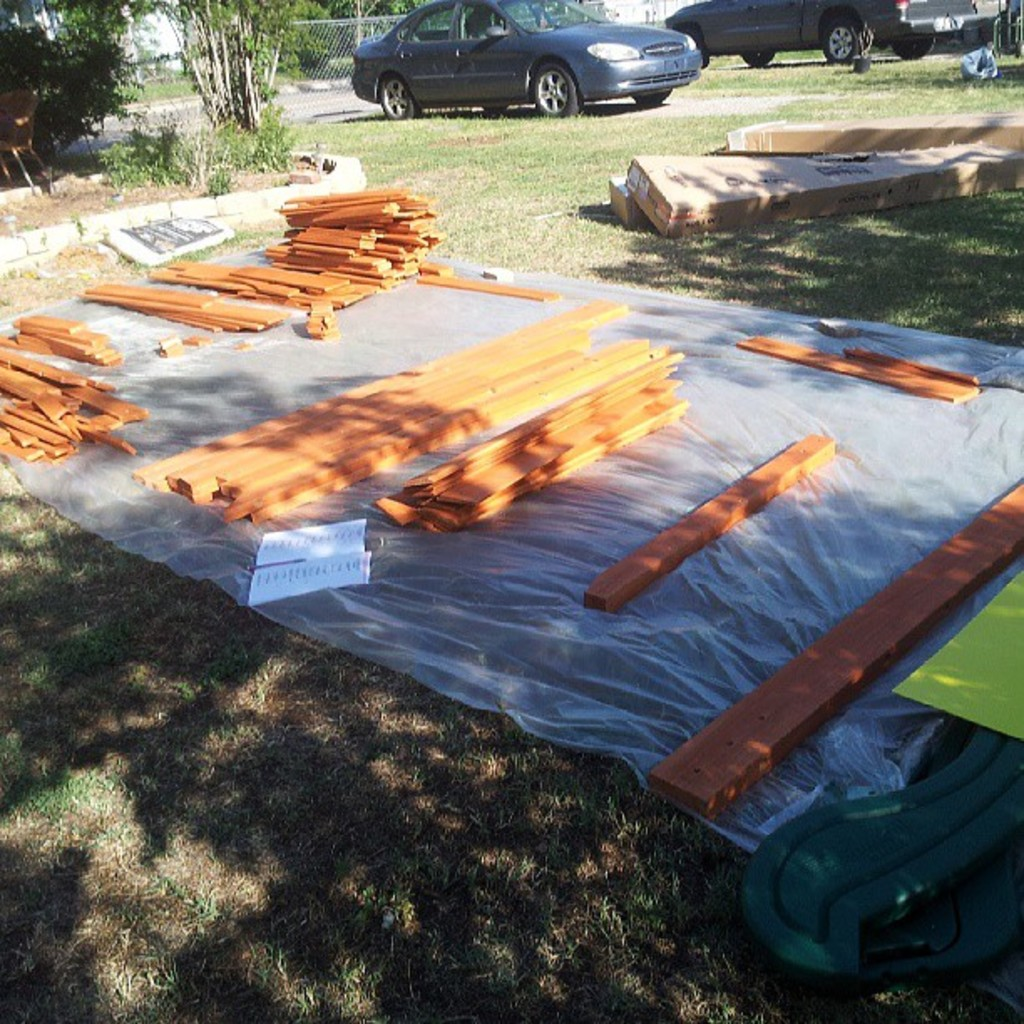Car: (316, 0, 670, 107), (665, 0, 998, 53)
